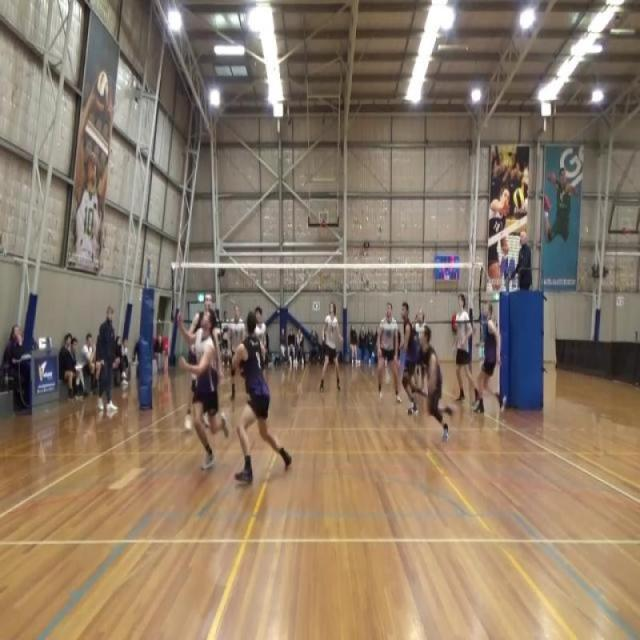volleyball: (95, 70, 108, 117), (512, 186, 526, 212)
